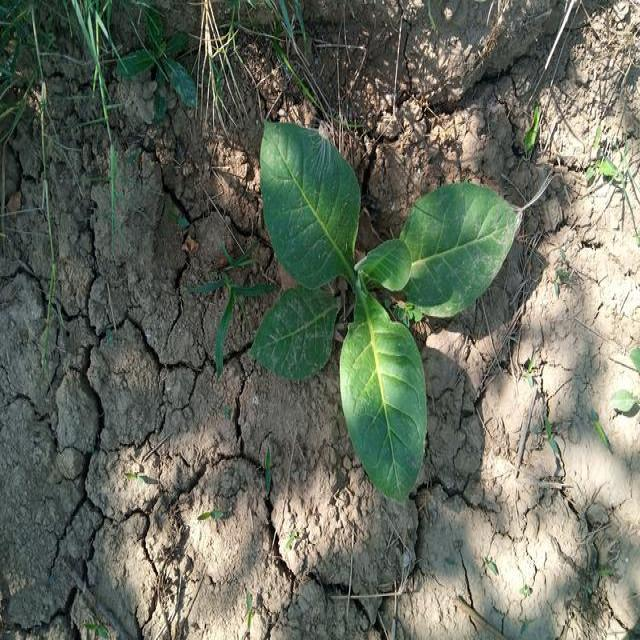crop: (245, 123, 512, 497)
